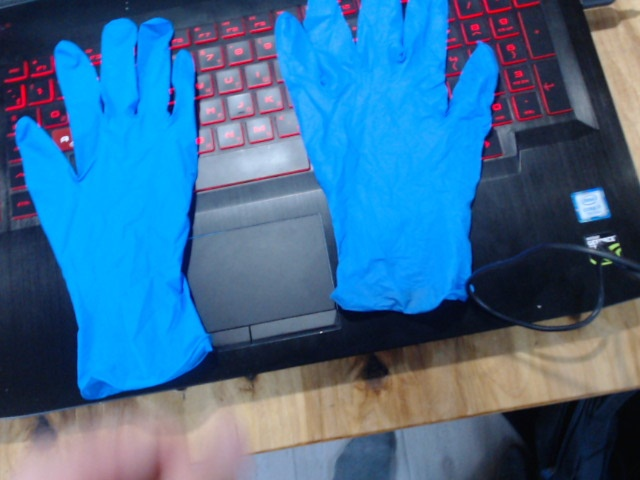medical_glove: (12, 16, 215, 399), (274, 1, 499, 313)
